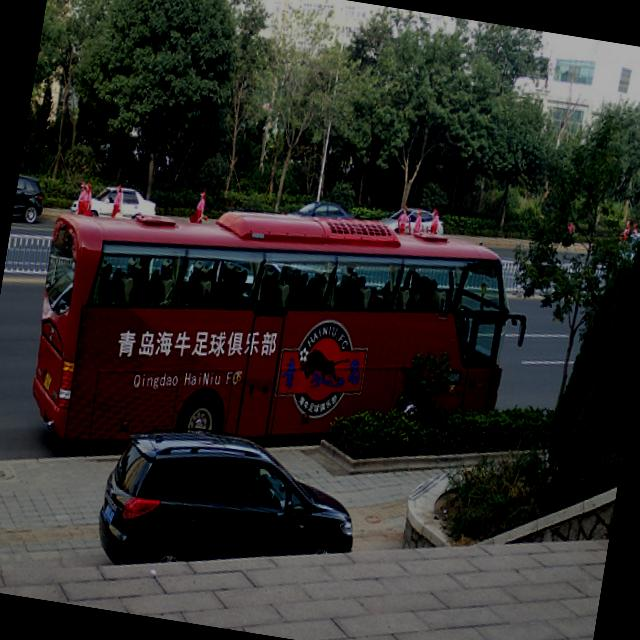Vehicle: (22, 152, 542, 514), (91, 420, 366, 601), (72, 180, 160, 226), (378, 202, 447, 240), (291, 194, 358, 226), (11, 174, 48, 228)
